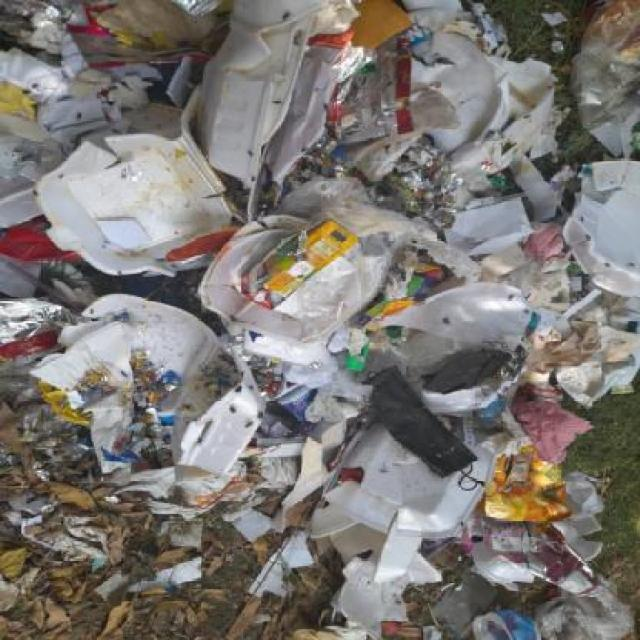garbage: (2, 2, 640, 640)
